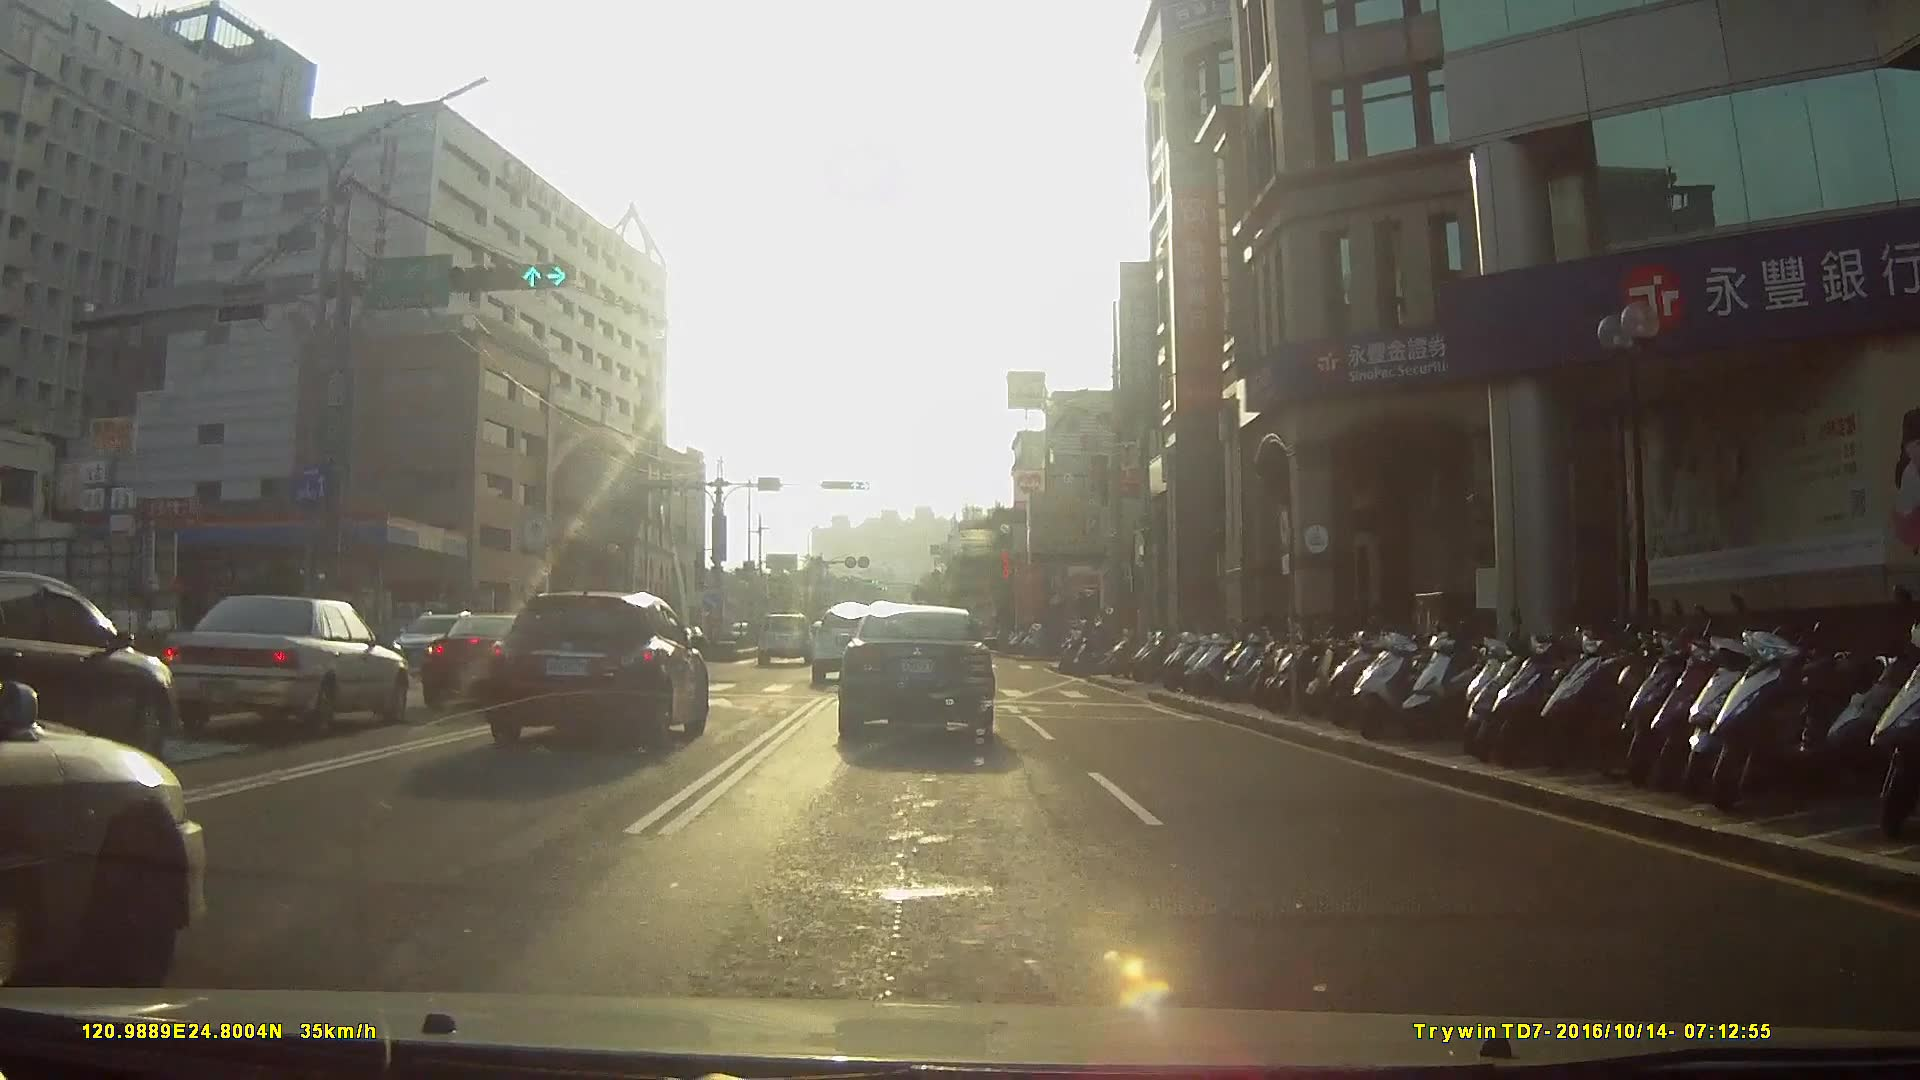rider: (1073, 621, 1132, 676)
vehicle: (1, 639, 210, 1005), (472, 582, 721, 754), (136, 589, 417, 740), (1, 574, 208, 765), (834, 602, 1006, 749), (406, 607, 589, 717), (375, 606, 511, 678), (807, 603, 886, 687), (756, 611, 815, 666)
